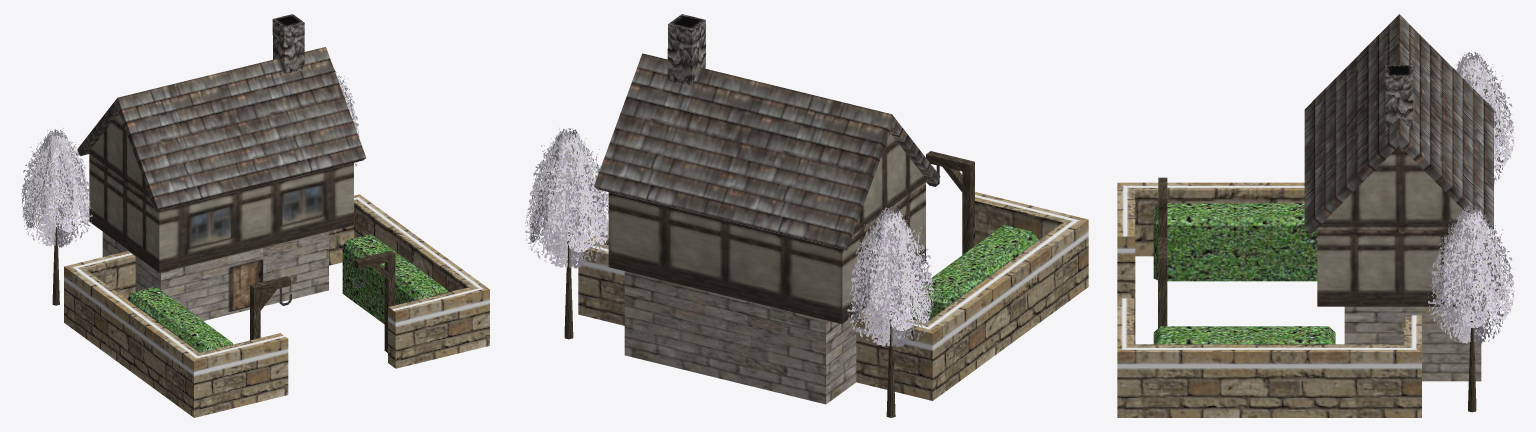
Rendered from manor.DAE.
The picture shows the model from 3 angles, left to right: view 1: azimuth 30°, elevation 25°; view 2: azimuth 150°, elevation 25°; view 3: azimuth 270°, elevation 25°; orthographic projection. The views are drawn at different scales.
Parts seen in each view (by area): view 1: Box001; view 2: Box001; view 3: Box001.
Boxes of the visible parts, <box> form: Box001: <box>21,14,489,417</box>; Box001: <box>525,14,1088,417</box>; Box001: <box>1117,14,1514,417</box>.
Size of the model in its own units: 50.89 by 44.44 by 36.5.
